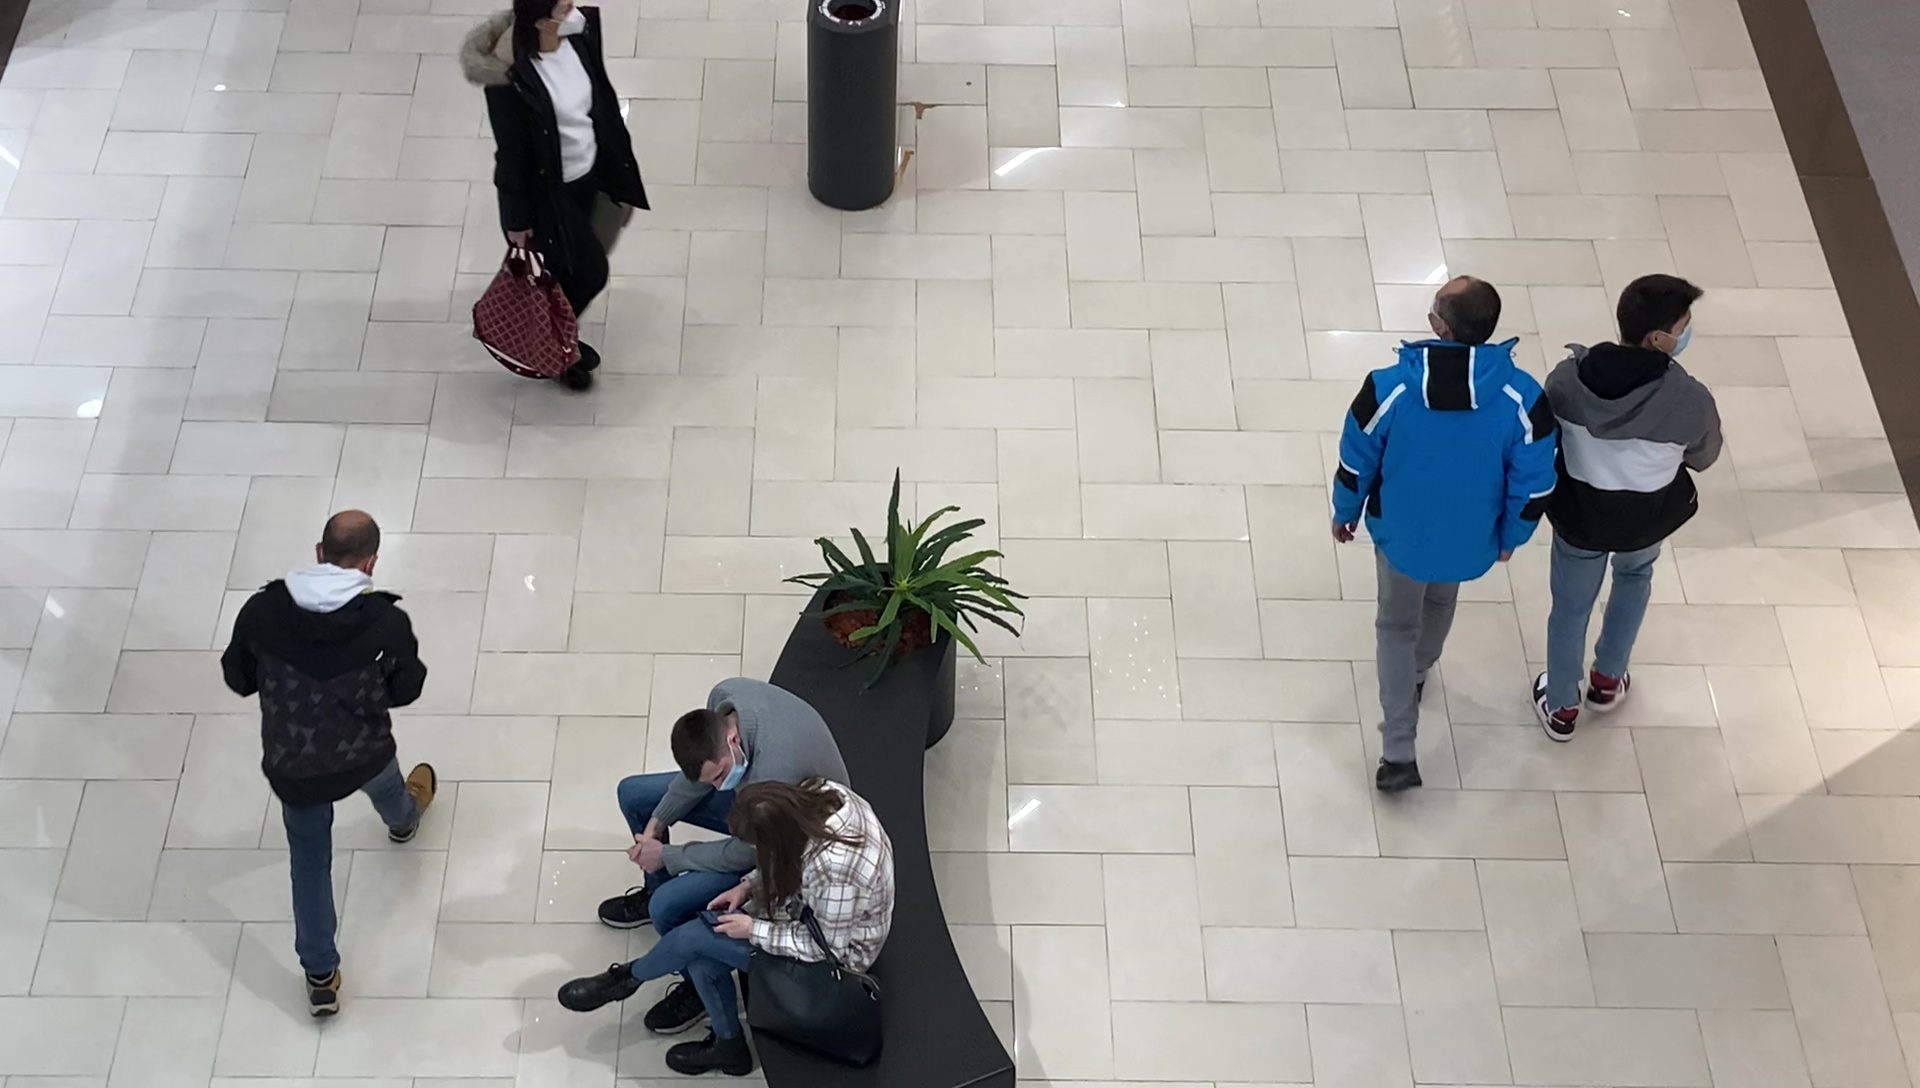person: (1329, 276, 1554, 790), (221, 509, 437, 1021), (560, 784, 896, 1078), (1543, 273, 1724, 745), (461, 1, 639, 394), (618, 677, 856, 811)
